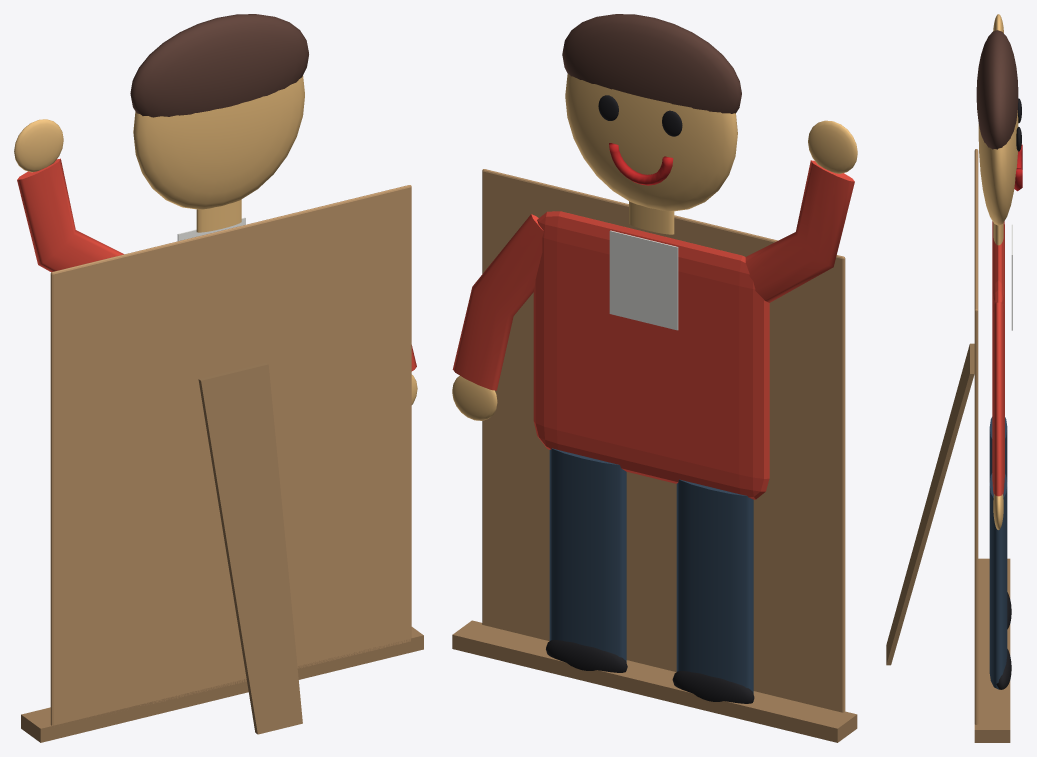
The model's file is cutout.fbx.
The picture shows the model from 3 angles, left to right: view 1: azimuth 30°, elevation 25°; view 2: azimuth 150°, elevation 25°; view 3: azimuth 270°, elevation 25°; orthographic projection. The views are drawn at different scales.
Visible parts, largest first — view 1: Cardboard Cutout of You; view 2: Cardboard Cutout of You; view 3: Cardboard Cutout of You.
Part boxes in pixels (box(x1,y1,x2,y2)): Cardboard Cutout of You: box(14, 14, 423, 742); Cardboard Cutout of You: box(452, 14, 857, 742); Cardboard Cutout of You: box(886, 14, 1022, 742).
Size of the model in its own units: 1.79 by 2.84 by 0.5709.
